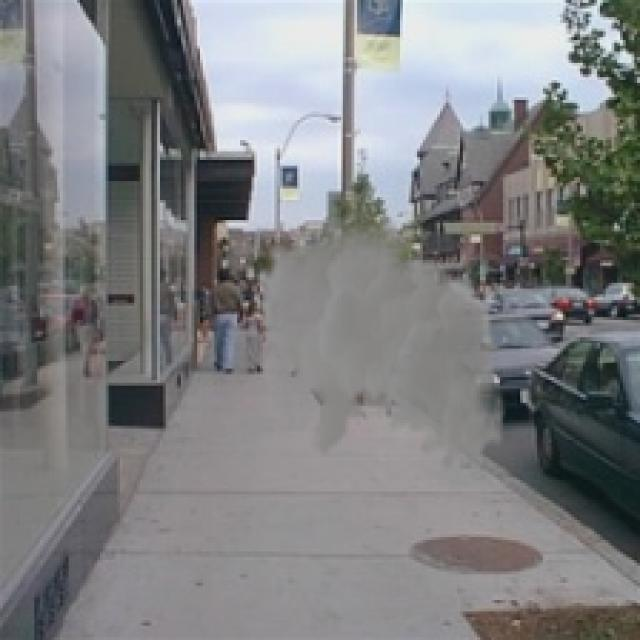smoke: (254, 203, 506, 471)
